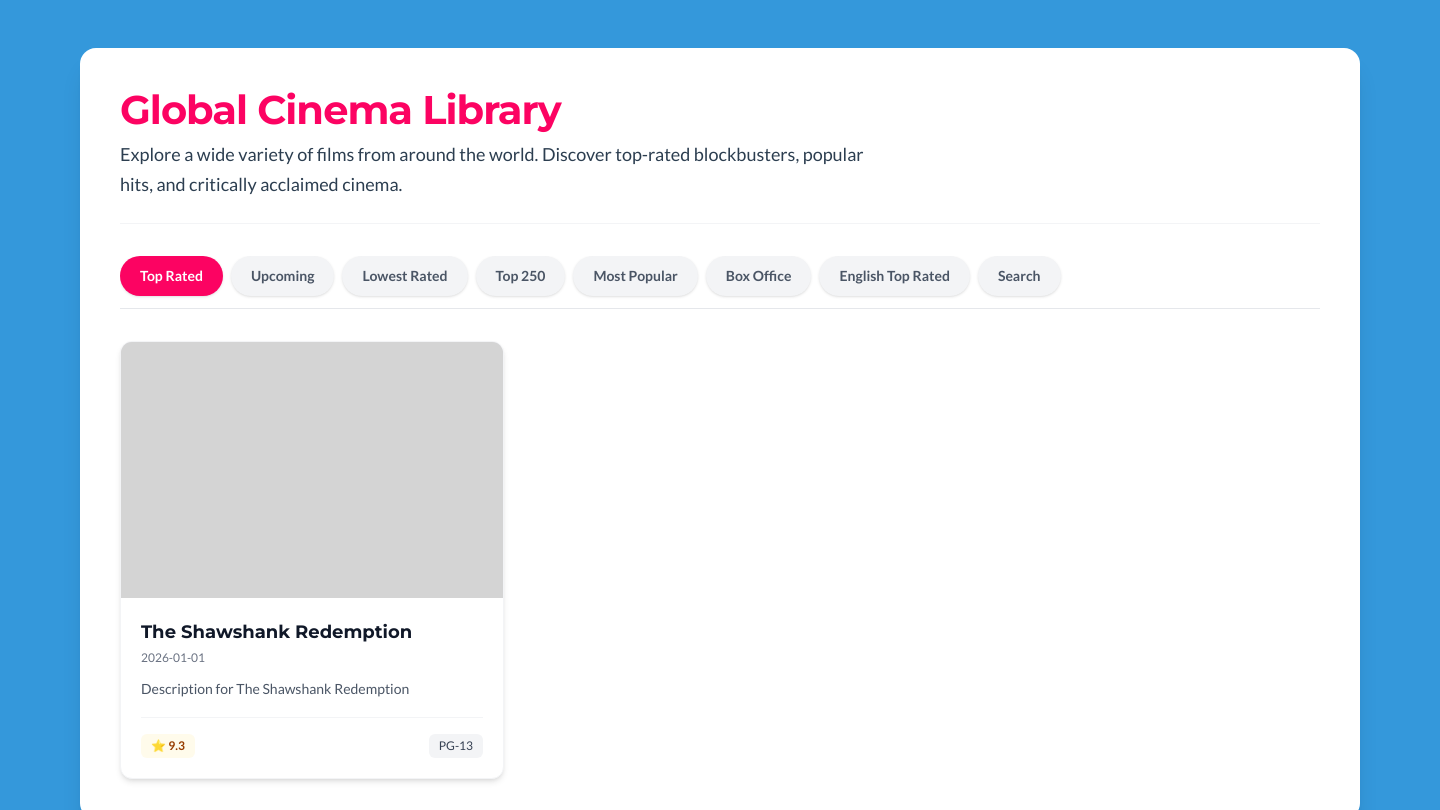
Scenario: MoviesView.vue › switches tabs and displays corresponding category movie cards
This screenshot has width=1440, height=810.
Click the button "Lowest Rated" at [405, 276], box [342, 256, 468, 296]
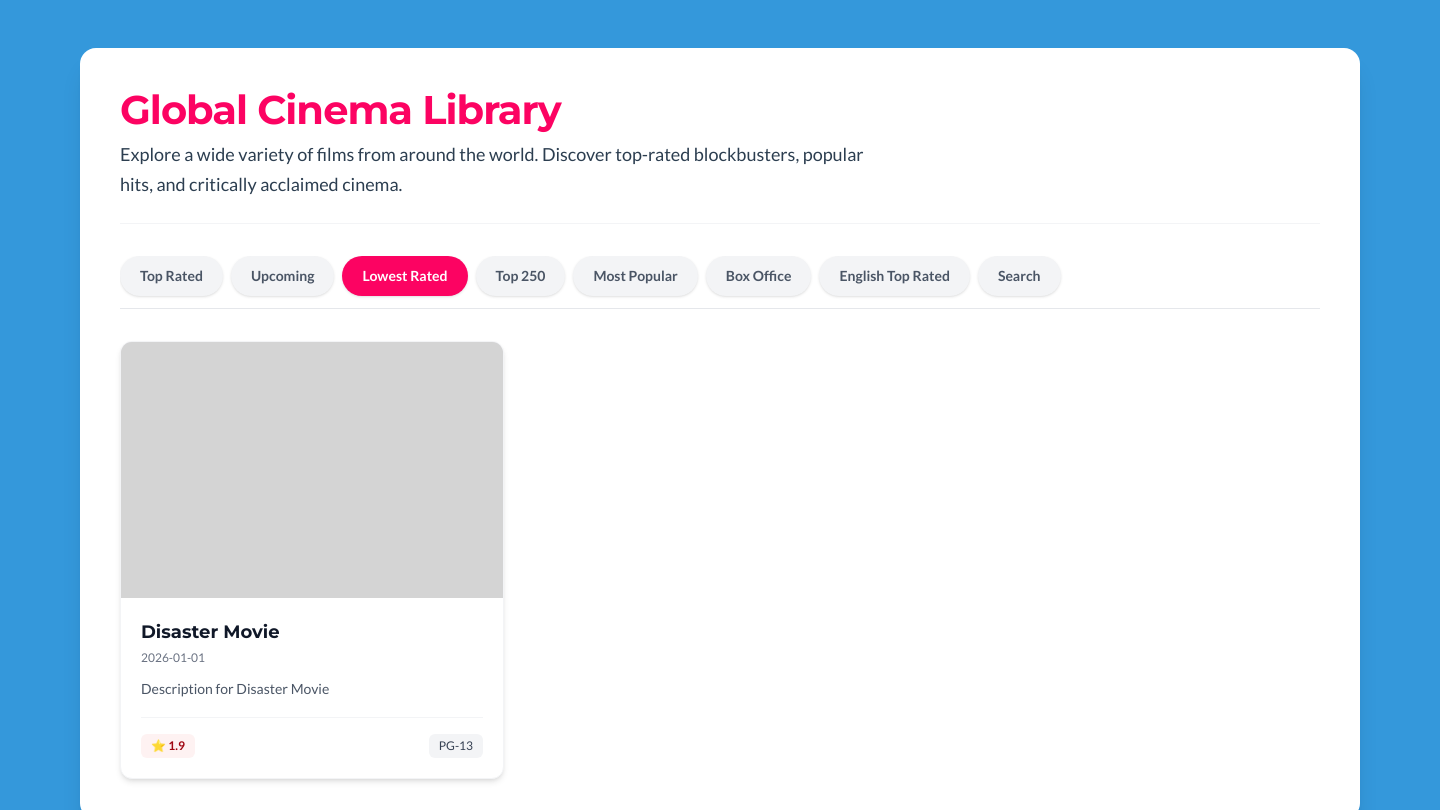
Now the text "Disaster Movie" is shown, box [141, 621, 280, 643]
Now the text "⭐ 1.9" is shown, box [141, 734, 195, 758]
Click the button "Top 250" at [520, 276], box [476, 256, 565, 296]
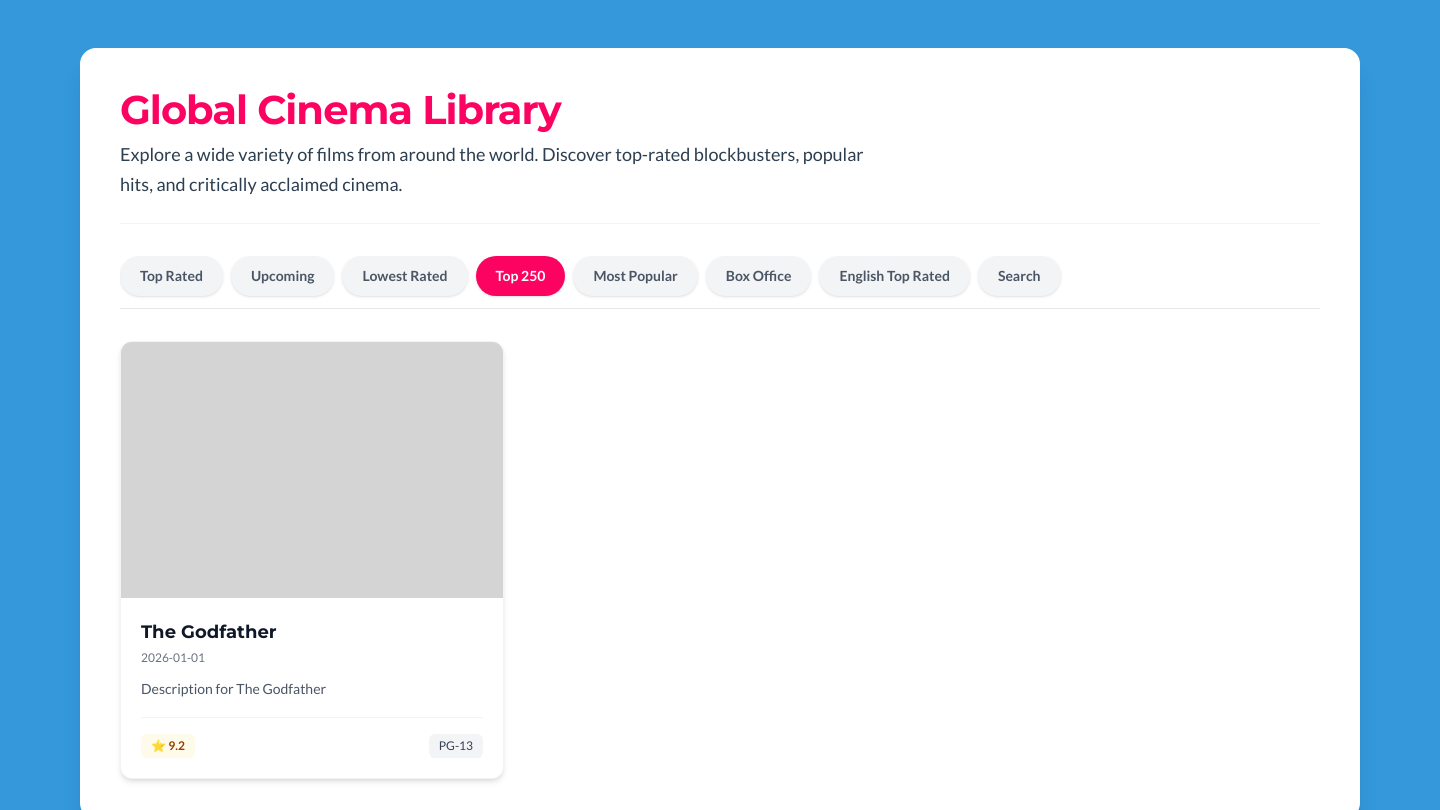
Now the text "The Godfather" is shown, box [141, 621, 277, 643]
Click the button "Most Popular" at [636, 276], box [573, 256, 698, 296]
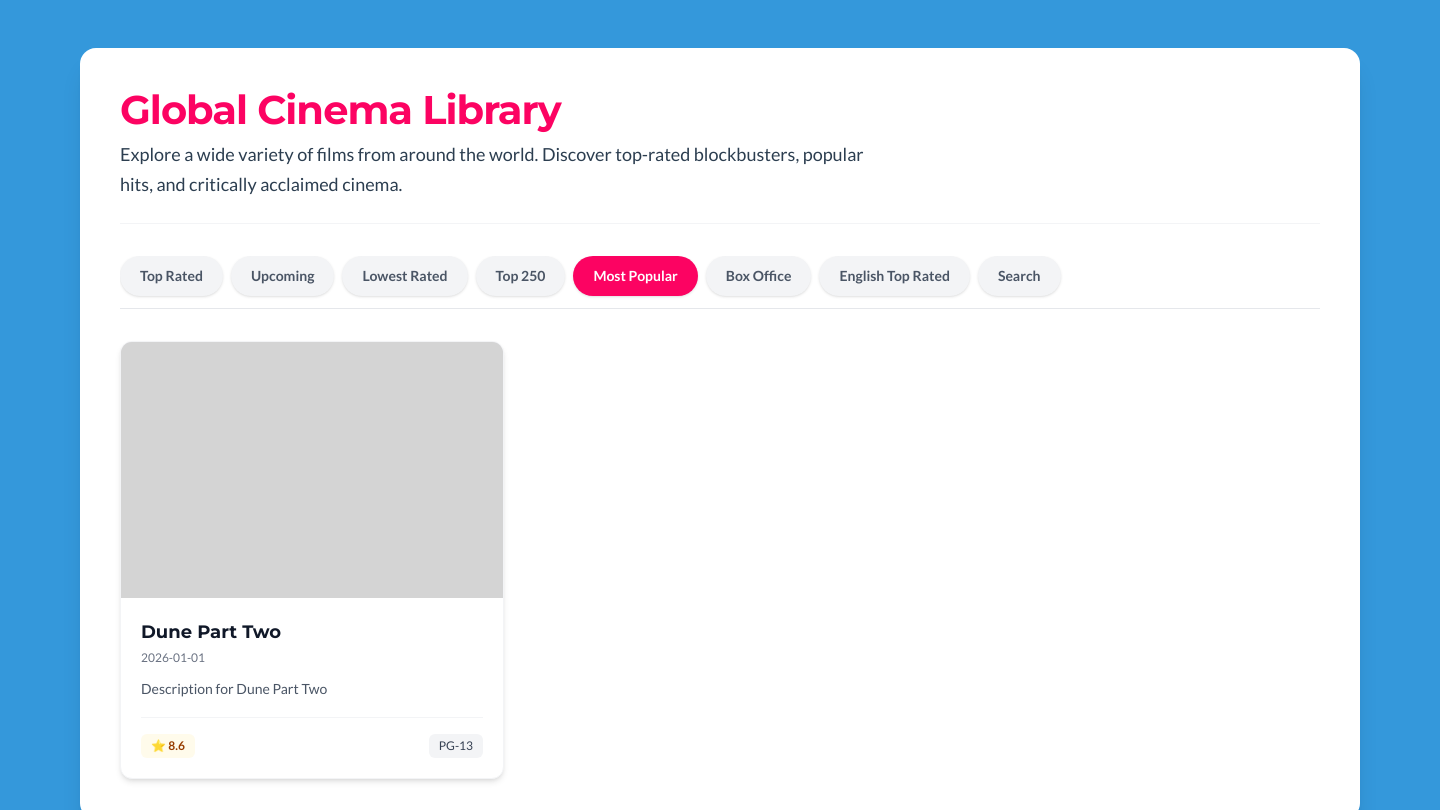
Now the text "Dune Part Two" is shown, box [141, 621, 281, 643]
Click the button "Box Office" at [759, 276], box [706, 256, 811, 296]
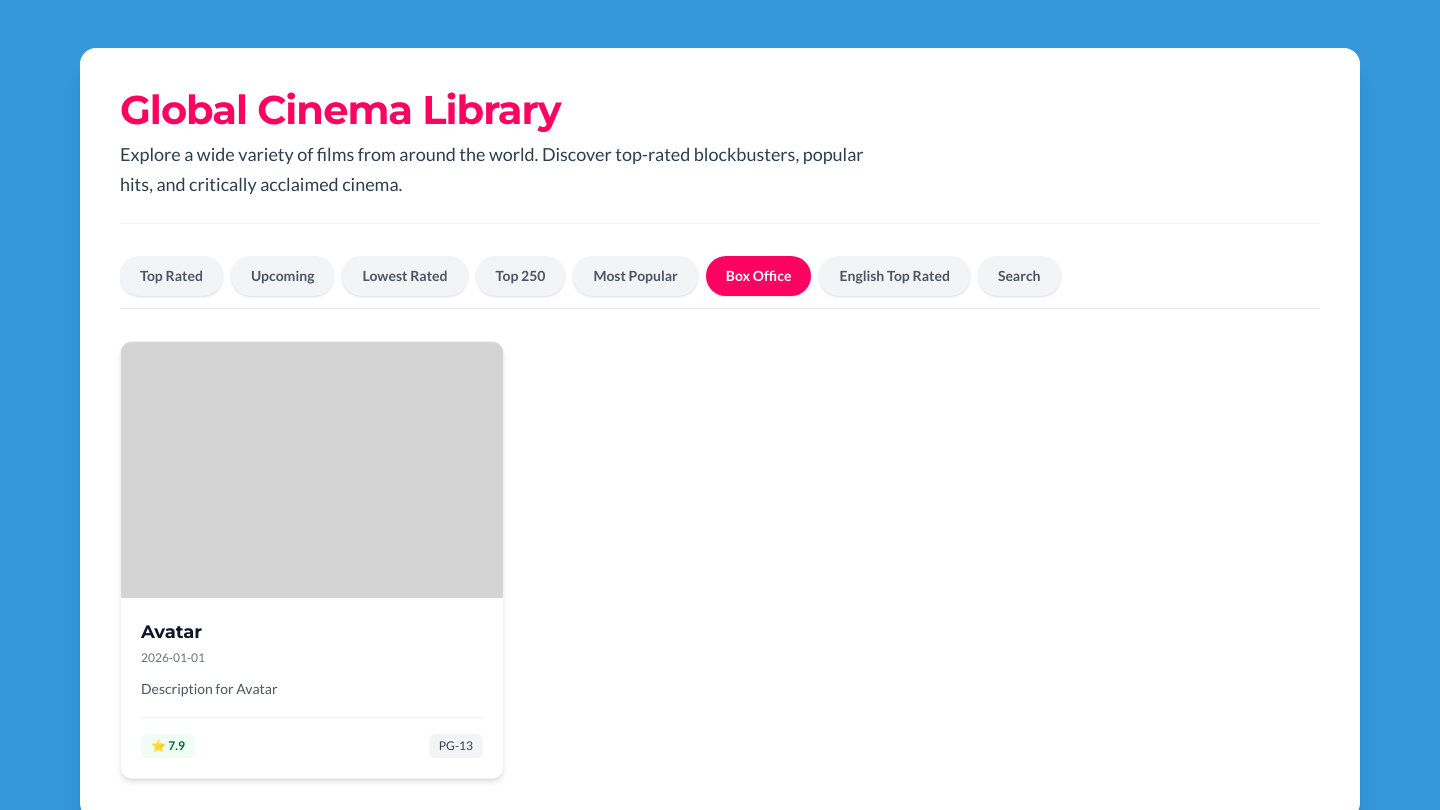
Now the text "Avatar" is shown, box [141, 621, 202, 643]
